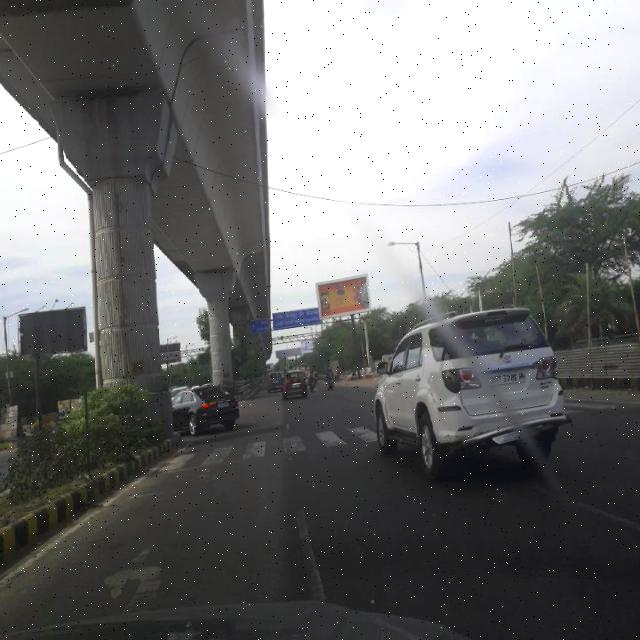D44: (531, 473, 640, 531), (292, 500, 330, 601)
